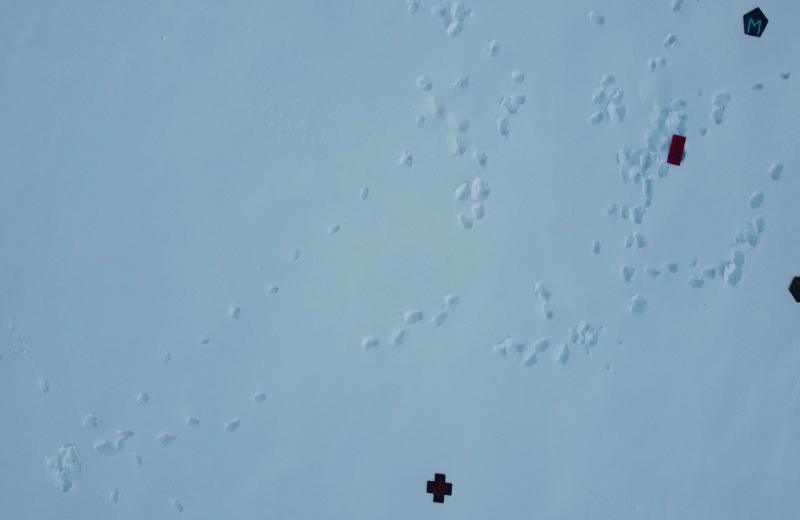Cross: (426, 469, 455, 506)
Pentagon: (740, 3, 770, 43)
Rectangle: (662, 134, 694, 170)
